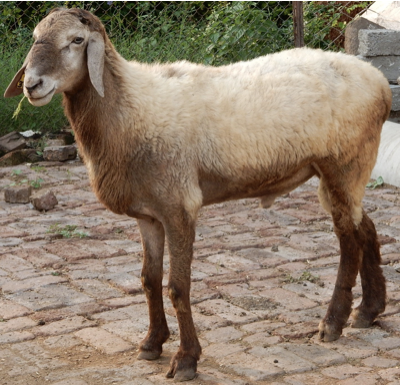koyun: (9, 5, 388, 384)
